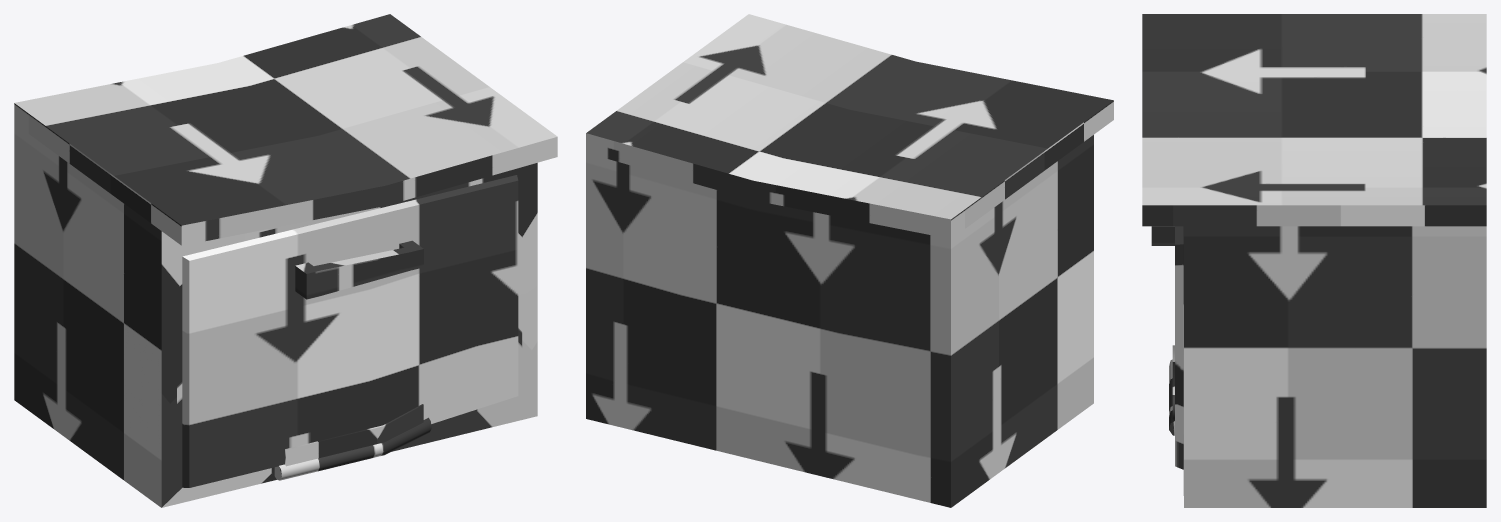
The model's file is SM_Counter_02.fbx.
3 views of the same model, side by side, from view 1: azimuth 30°, elevation 25°; view 2: azimuth 150°, elevation 25°; view 3: azimuth 270°, elevation 25° (orthographic). The views are drawn at different scales.
Parts seen in each view (by area): view 1: SM_Counter_02.001; view 2: SM_Counter_02.001; view 3: SM_Counter_02.001.
Boxes of the visible parts, left/top/right/bottom form: SM_Counter_02.001: left=14, top=14, right=557, bottom=507; SM_Counter_02.001: left=586, top=14, right=1113, bottom=507; SM_Counter_02.001: left=1142, top=14, right=1486, bottom=507.
Bounding box in the file's own units: 0.6278 × 0.8129 × 0.614.
1 material, 1 textured.
